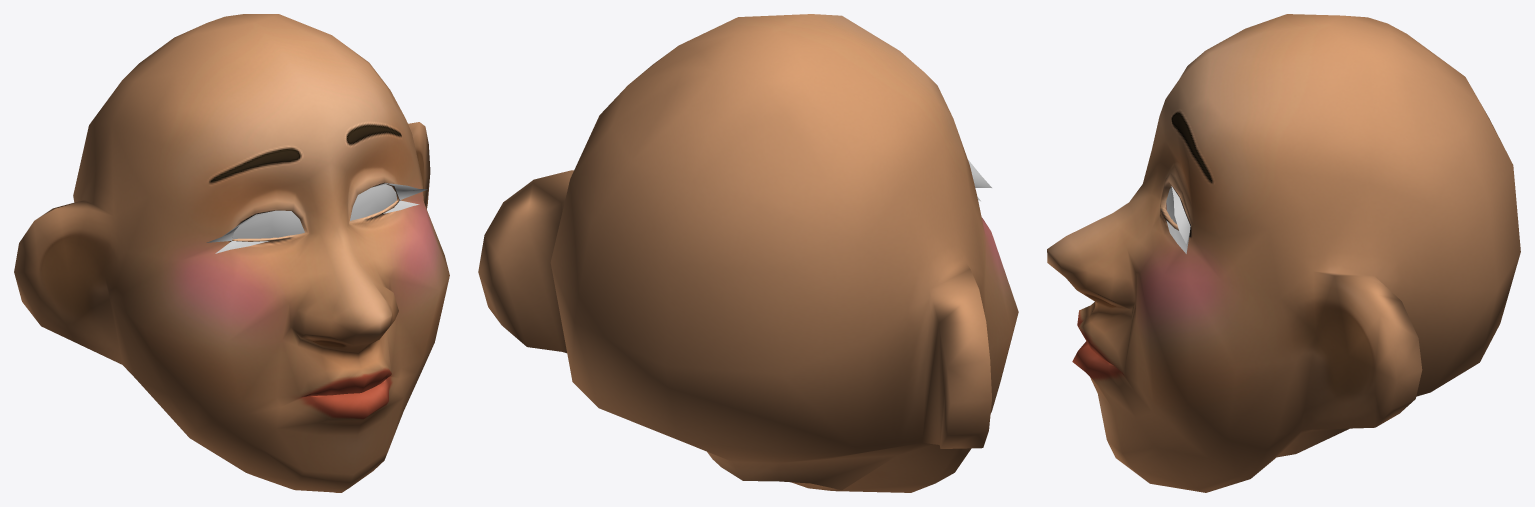
The model's file is F_pose17.fbx.
The picture shows the model from 3 angles, left to right: view 1: azimuth 30°, elevation 25°; view 2: azimuth 150°, elevation 25°; view 3: azimuth 270°, elevation 25°; orthographic projection. The views are drawn at different scales.
Parts seen in each view (by area): view 1: HEAD; view 2: HEAD; view 3: HEAD.
Part boxes in pixels (<box>): HEAD: <box>14,14,449,492</box>; HEAD: <box>478,14,1018,492</box>; HEAD: <box>1047,14,1520,492</box>.
Size of the model in its own units: 27.45 by 25.79 by 24.63.
